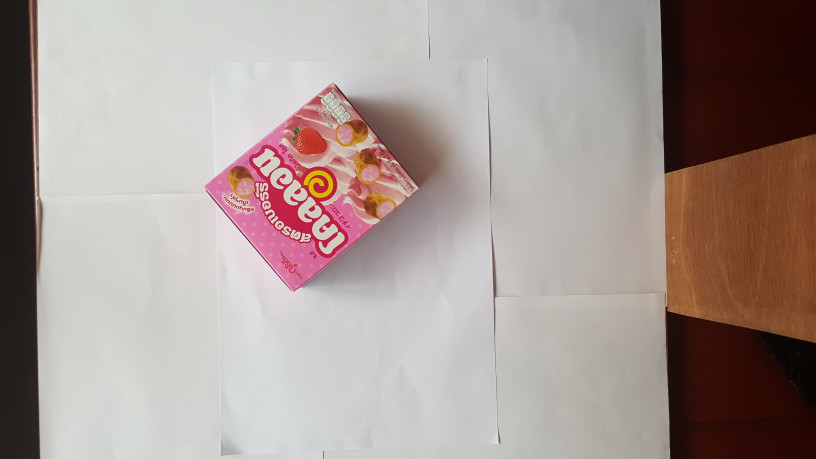collon-strawberry: (199, 79, 423, 297)
